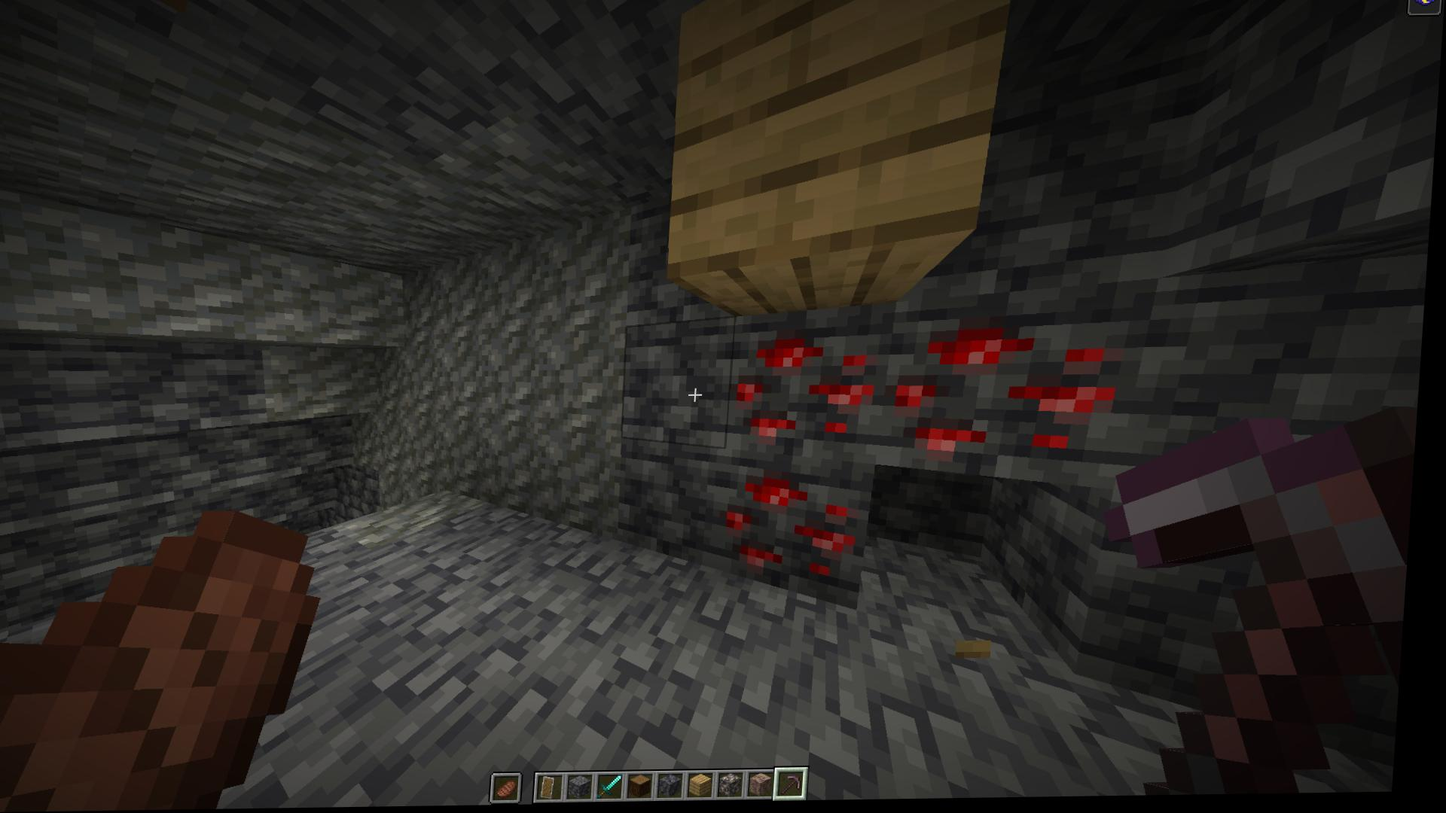redstone ore: (893, 310, 1145, 485), (731, 316, 888, 459), (721, 462, 876, 598)
